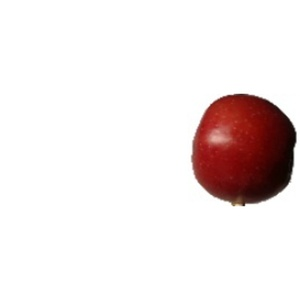maçã braeburn: (190, 92, 297, 200)
